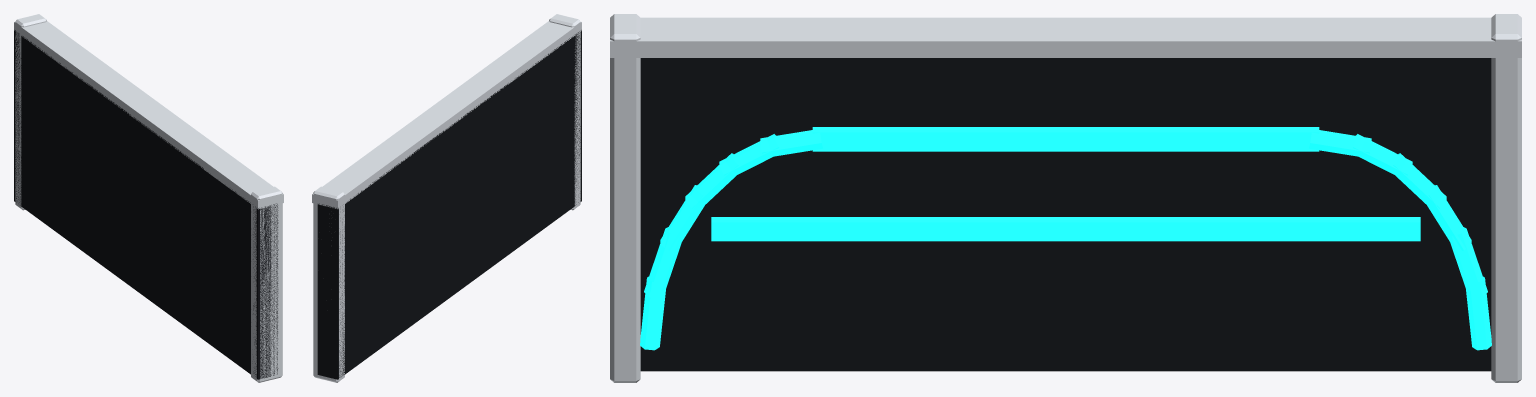
The model's file is skirt_neon_arch.glb.
3 renders of one model, left to right at view 1: azimuth 30°, elevation 25°; view 2: azimuth 150°, elevation 25°; view 3: azimuth 270°, elevation 25°, orthographic. The views are drawn at different scales.
Parts seen in each view (by area): view 1: skirt_neon_arch_MID_deco_body, skirt_neon_arch_HEAD_deco_body, skirt_neon_arch_TAIL_deco_body, skirt_neon_arch_HEAD_chrome, skirt_neon_arch_MID_chrome, skirt_neon_arch_TAIL_chrome; view 2: skirt_neon_arch_MID_deco_body, skirt_neon_arch_TAIL_deco_body, skirt_neon_arch_HEAD_deco_body, skirt_neon_arch_MID_chrome, skirt_neon_arch_TAIL_chrome, skirt_neon_arch_HEAD_chrome; view 3: skirt_neon_arch_MID_deco_body, skirt_neon_arch_HEAD_deco_body, skirt_neon_arch_TAIL_deco_body, skirt_neon_arch_MID_deco_neon, skirt_neon_arch_MID_chrome, skirt_neon_arch_HEAD_chrome, skirt_neon_arch_TAIL_chrome, skirt_neon_arch_HEAD_deco_neon, skirt_neon_arch_TAIL_deco_neon.
Part boxes in pixels (x1,y1,x2,y2): skirt_neon_arch_MID_deco_body: (68,70,203,339); skirt_neon_arch_HEAD_deco_body: (204,170,278,379); skirt_neon_arch_TAIL_deco_body: (14,30,68,240); skirt_neon_arch_HEAD_chrome: (204,154,283,382); skirt_neon_arch_MID_chrome: (68,55,229,169); skirt_neon_arch_TAIL_chrome: (14,14,93,210); skirt_neon_arch_MID_deco_body: (392,70,527,339); skirt_neon_arch_TAIL_deco_body: (317,169,391,379); skirt_neon_arch_HEAD_deco_body: (527,30,581,240); skirt_neon_arch_MID_chrome: (366,55,527,169); skirt_neon_arch_TAIL_chrome: (312,154,391,382); skirt_neon_arch_HEAD_chrome: (502,14,581,210); skirt_neon_arch_MID_deco_body: (812,58,1319,371); skirt_neon_arch_HEAD_deco_body: (640,58,812,371); skirt_neon_arch_TAIL_deco_body: (1319,58,1491,371); skirt_neon_arch_MID_deco_neon: (812,127,1319,241); skirt_neon_arch_MID_chrome: (812,17,1319,57); skirt_neon_arch_HEAD_chrome: (610,14,812,382); skirt_neon_arch_TAIL_chrome: (1319,14,1521,382); skirt_neon_arch_HEAD_deco_neon: (640,130,822,350); skirt_neon_arch_TAIL_deco_neon: (1309,130,1491,350).
Size of the model in its own units: 0.061 by 0.38 by 0.9.
